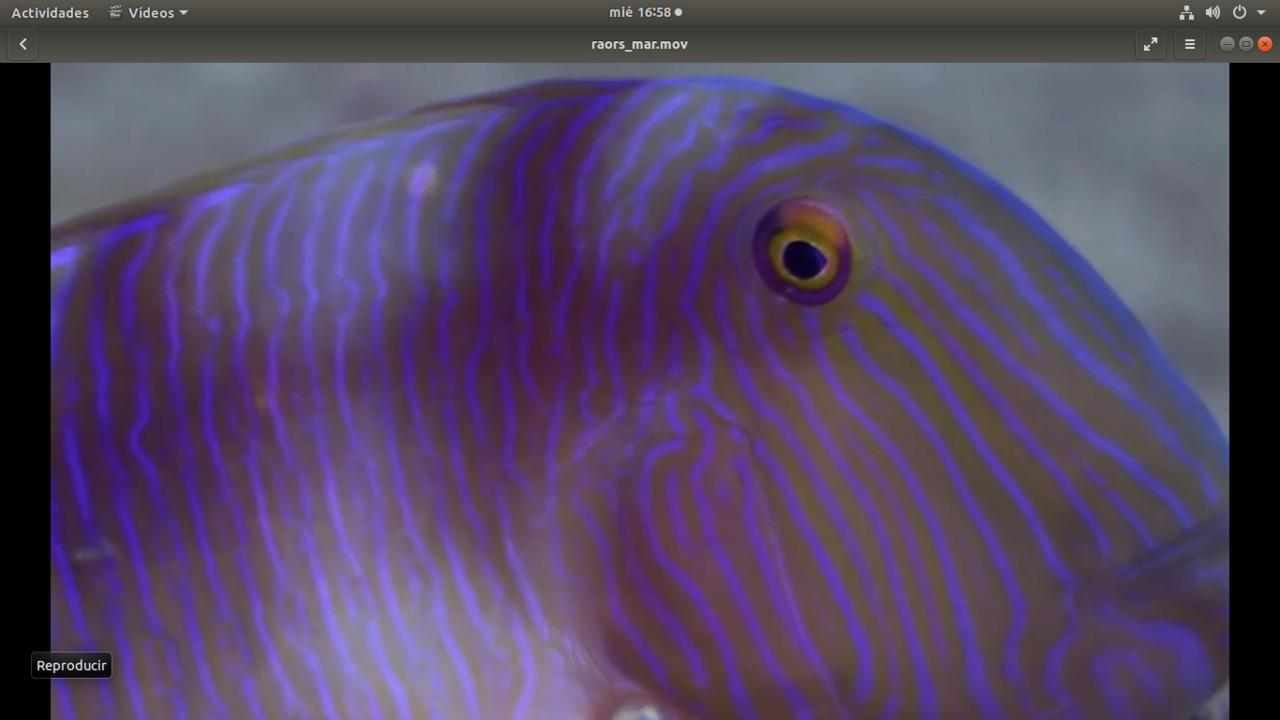raor: (116, 67, 1222, 714)
